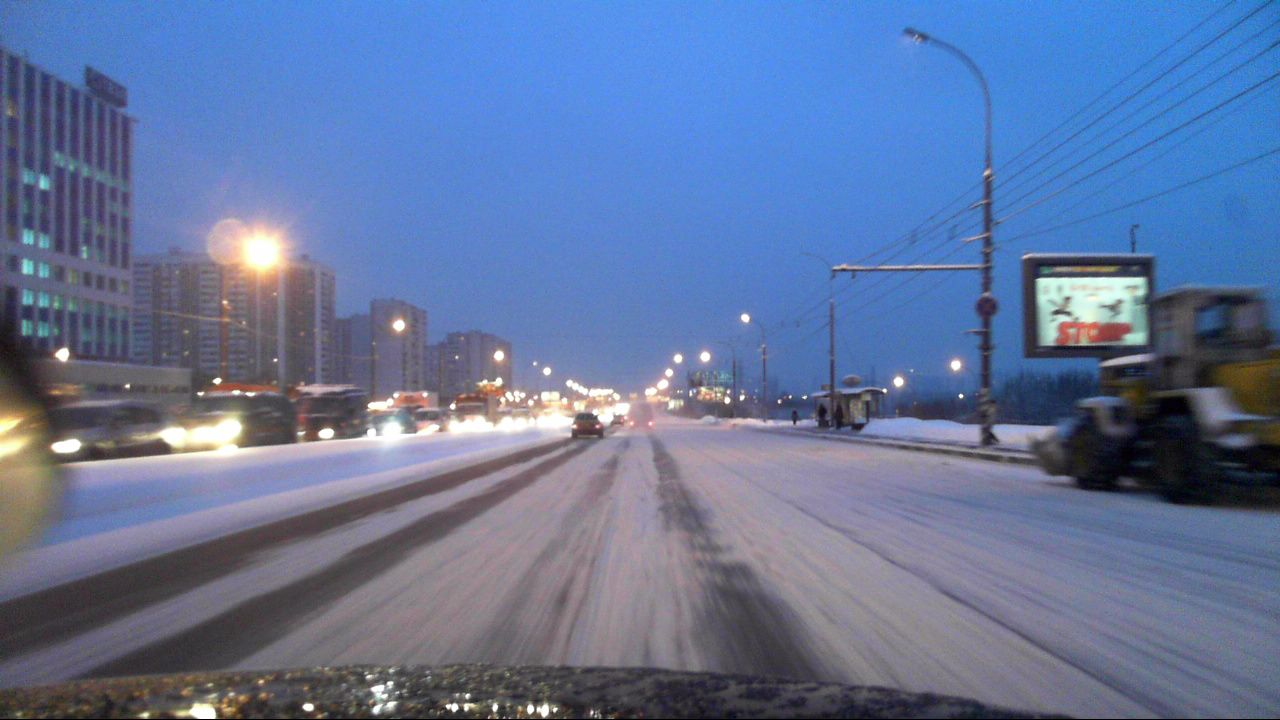No Parking: (973, 290, 1000, 319)
